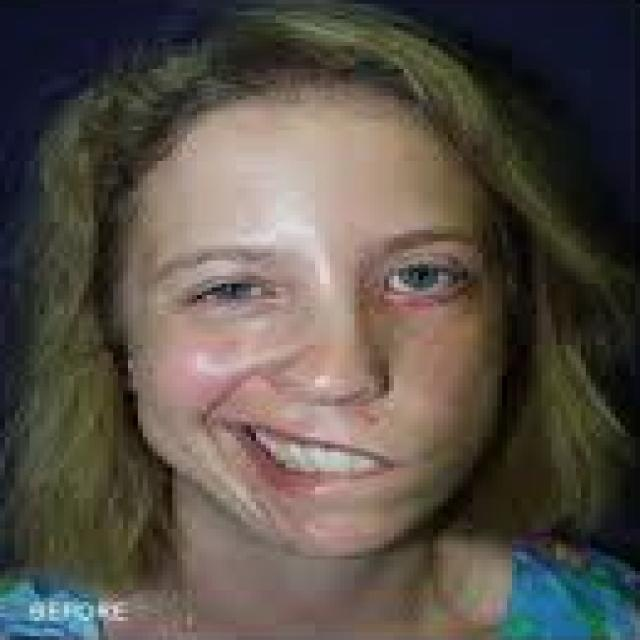stroke_face: (123, 65, 573, 568)
